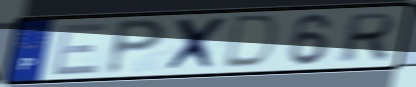6: (287, 12, 336, 67)
D: (219, 13, 282, 71)
E: (49, 21, 111, 77)
P: (102, 17, 170, 77)
R: (334, 11, 399, 65)
X: (161, 15, 231, 74)
